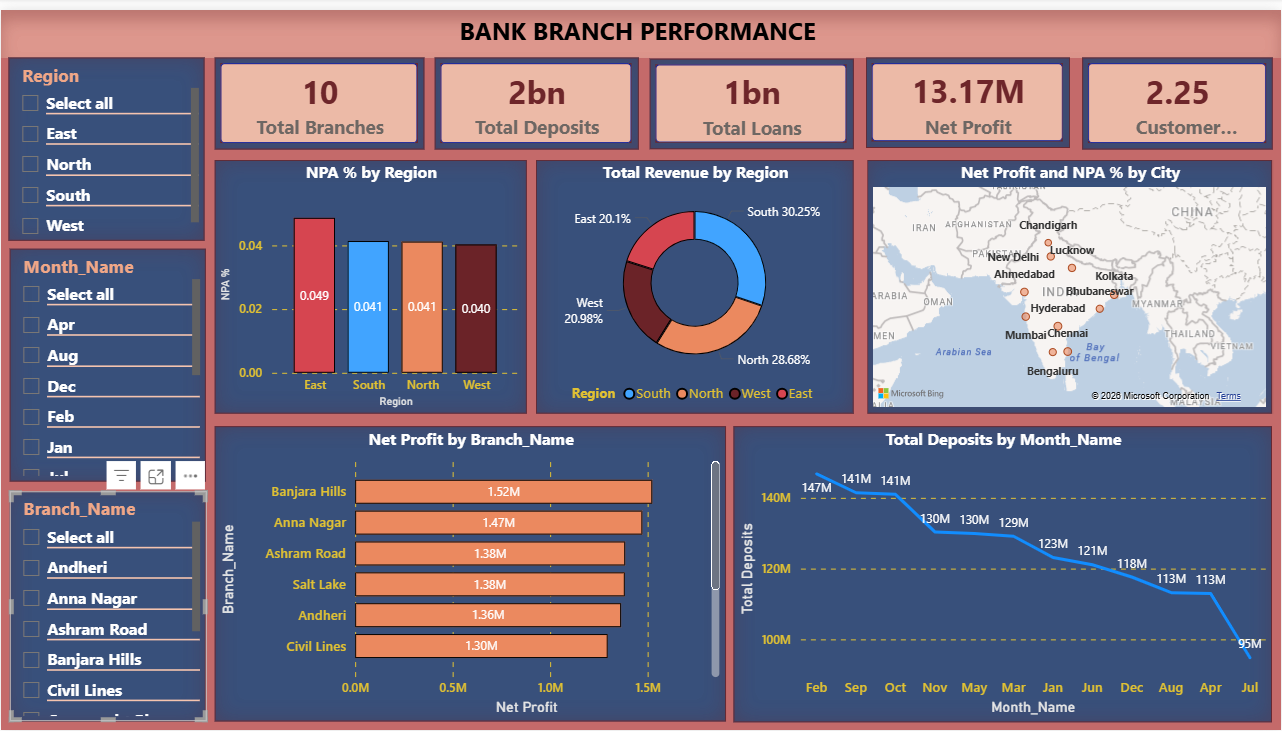

The page's visual inventory and layout, read from the dashboard file:
{"tool":"powerbi","page":{"name":"Page 1","canvas":[1280,720],"ordinal":0},"visuals":[{"type":"textbox","box":[0,0,1279.8,47.9],"z":0},{"type":"cardVisual","fields":{"Data":["Dax Query.Total Branches"]},"box":[213.5,47.9,209.8,92],"z":1000},{"type":"cardVisual","fields":{"Data":["Dax Query.Total Deposits"]},"box":[433.1,47.9,203.7,92],"z":2000},{"type":"cardVisual","fields":{"Data":["Dax Query.Total Loans"]},"box":[649.1,49.1,203.7,90.8],"z":3000},{"type":"cardVisual","fields":{"Data":["Dax Query.Net Profit"]},"box":[865,47.9,203.7,90.8],"z":4000},{"type":"cardVisual","fields":{"Data":["Dax Query.Customer Growth %"]},"box":[1081,47.9,190.2,92],"z":5000},{"type":"barChart","fields":{"Category":["Dim_Branch.Branch_Name"],"Y":["Dax Query.Net Profit"]},"box":[213.8,416.2,511.2,295],"z":6000},{"type":"lineChart","fields":{"Category":["Dim_Date.Month_Name"],"Y":["Dax Query.Total Deposits"]},"box":[732.5,416,538.7,295.7],"z":7000},{"type":"clusteredColumnChart","fields":{"Category":["Dim_Branch.Region"],"Y":["Dax Query.NPA %"]},"box":[213.5,149.7,311.7,254],"z":8000},{"type":"donutChart","fields":{"Category":["Dim_Branch.Region"],"Y":["Dax Query.Total Revenue"]},"box":[535,149.7,317.8,254],"z":9000},{"type":"map","fields":{"Category":["Dim_Branch.City"],"Size":["Dax Query.Net Profit"]},"box":[866.3,149.7,404.9,254],"z":10000},{"type":"slicer","fields":{"Values":["Dim_Date.Month_Name"]},"box":[8.6,239.3,196.3,233.1],"z":11000},{"type":"slicer","fields":{"Values":["Dim_Branch.Branch_Name"]},"box":[8.6,481,196.3,230.7],"z":12000},{"type":"slicer","fields":{"Values":["Dim_Branch.Region"]},"box":[8,47.9,196.3,182.8],"z":13000}]}

Visuals, with their boxes in screenshot pixels (x1, y1, x2, y2), scaled from the page's 1280x720 canvas onto the 1282x731 screenshot:
textbox: [x1=0, y1=0, x2=1281, y2=49]
cardVisual - Dax Query.Total Branches: [x1=214, y1=49, x2=424, y2=142]
cardVisual - Dax Query.Total Deposits: [x1=434, y1=49, x2=638, y2=142]
cardVisual - Dax Query.Total Loans: [x1=650, y1=50, x2=854, y2=142]
cardVisual - Dax Query.Net Profit: [x1=866, y1=49, x2=1070, y2=141]
cardVisual - Dax Query.Customer Growth %: [x1=1083, y1=49, x2=1273, y2=142]
barChart - Dim_Branch.Branch_Name x Dax Query.Net Profit: [x1=214, y1=423, x2=726, y2=722]
lineChart - Dim_Date.Month_Name x Dax Query.Total Deposits: [x1=734, y1=422, x2=1273, y2=723]
clusteredColumnChart - Dim_Branch.Region x Dax Query.NPA %: [x1=214, y1=152, x2=526, y2=410]
donutChart - Dim_Branch.Region x Dax Query.Total Revenue: [x1=536, y1=152, x2=854, y2=410]
map - Dim_Branch.City x Dax Query.Net Profit: [x1=868, y1=152, x2=1273, y2=410]
slicer - Dim_Date.Month_Name: [x1=9, y1=243, x2=205, y2=480]
slicer - Dim_Branch.Branch_Name: [x1=9, y1=488, x2=205, y2=723]
slicer - Dim_Branch.Region: [x1=8, y1=49, x2=205, y2=234]
